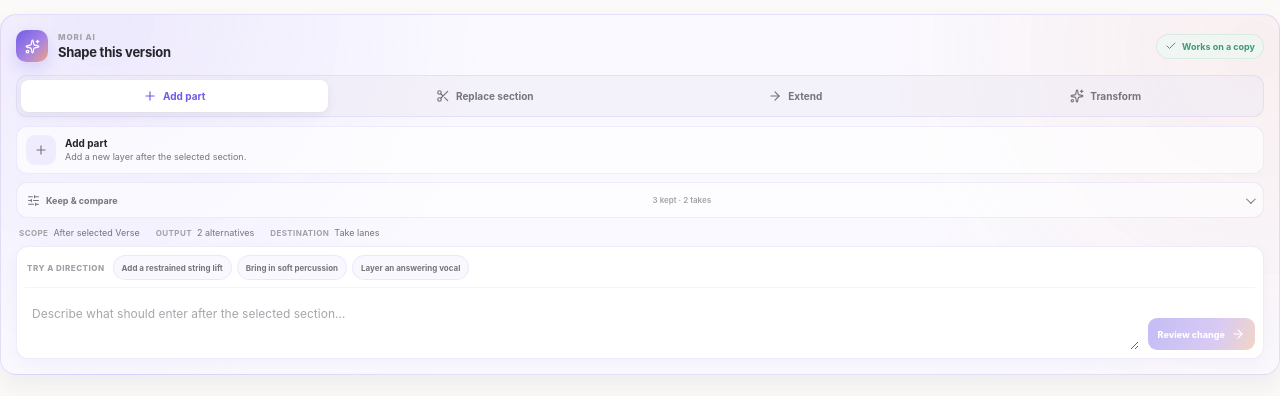
it: Studio AI composer › offers operation-aware prompt starters without skipping plan review
Expected: the button "Add a restrained string lift" is shown, [112, 255, 232, 280]
Click the button "Extend". click: (795,96)
box: [642, 80, 948, 112]
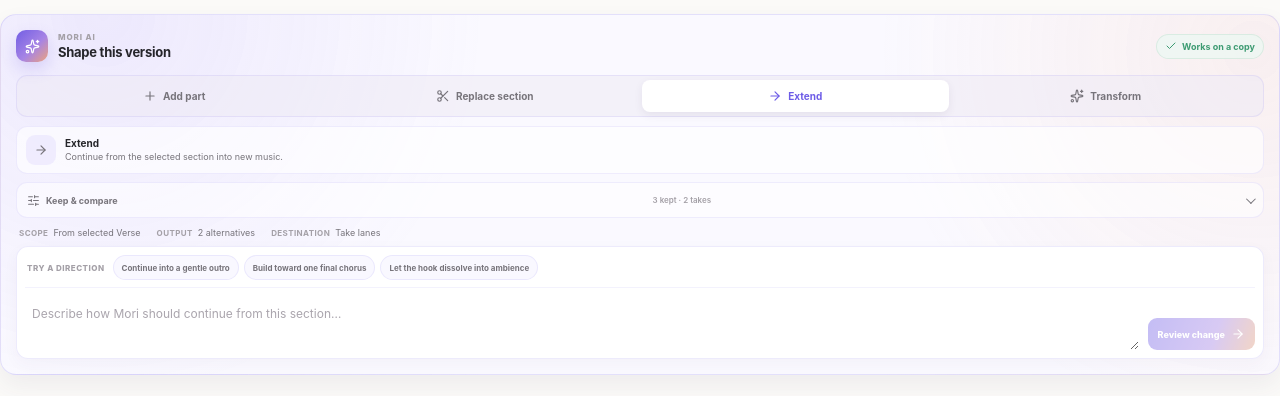
Click the button "Continue into a gentle outro". click: (176,268)
box: [112, 255, 239, 280]
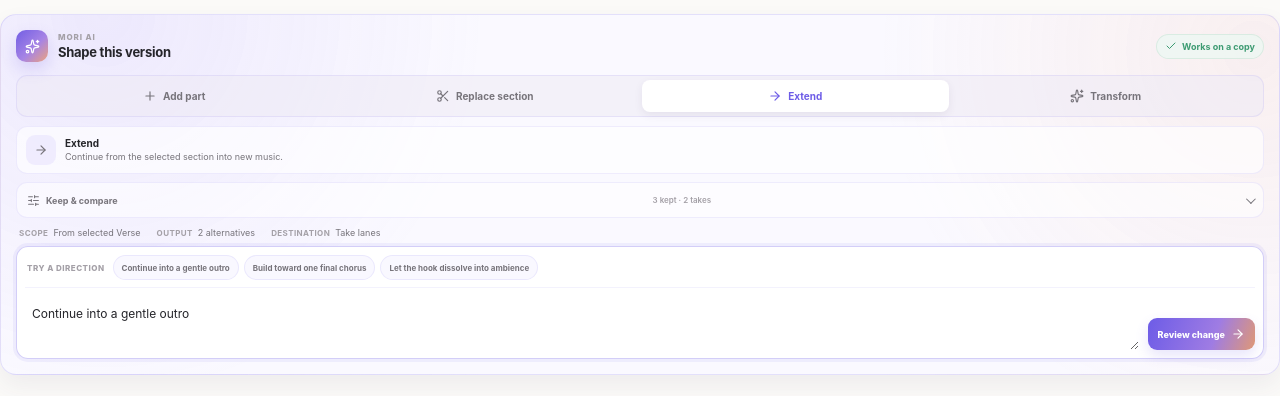
Now the text box named "Tell Mori what to change" holds "Continue into a gentle outro", box [25, 297, 1138, 350]
Now the button "Review change" is enabled, box [1148, 318, 1255, 350]
